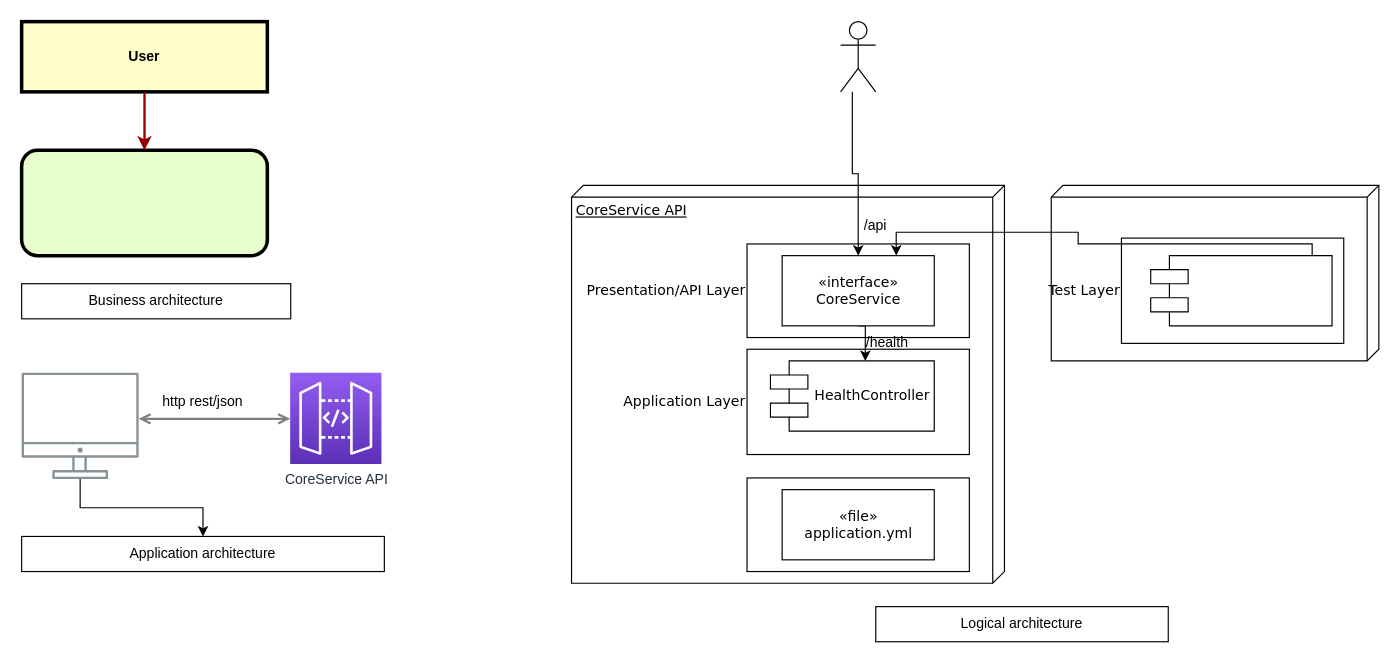
The diagram is 1399 pixels wide and 662 high, and some of its shapes have lost their labels. Each missing label, with the box of its shape:
Actor: (839, 20, 876, 92)
Configuration Layer: (746, 477, 969, 572)
CoreService API Tests: (1050, 184, 1379, 361)
data lake CLI: (21, 372, 138, 479)
Process 1 State of service consultation : return service state : UP + version: (19, 148, 269, 257)
WebMvcTest: (1150, 254, 1332, 326)
